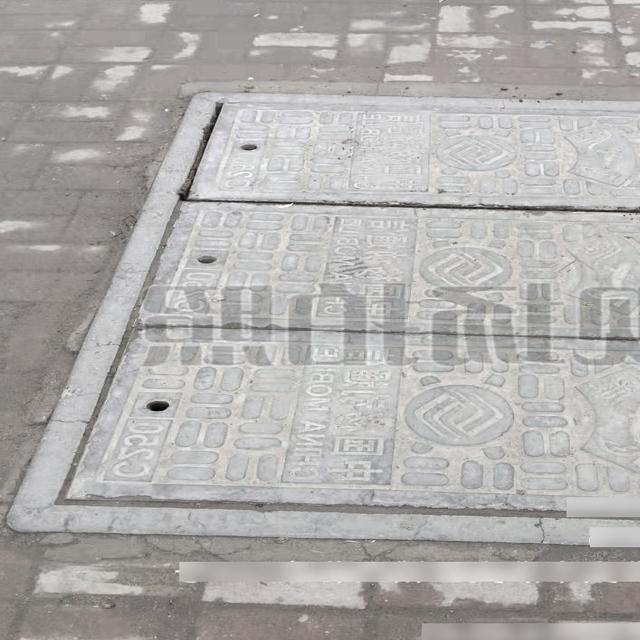good: (1, 89, 640, 549)
